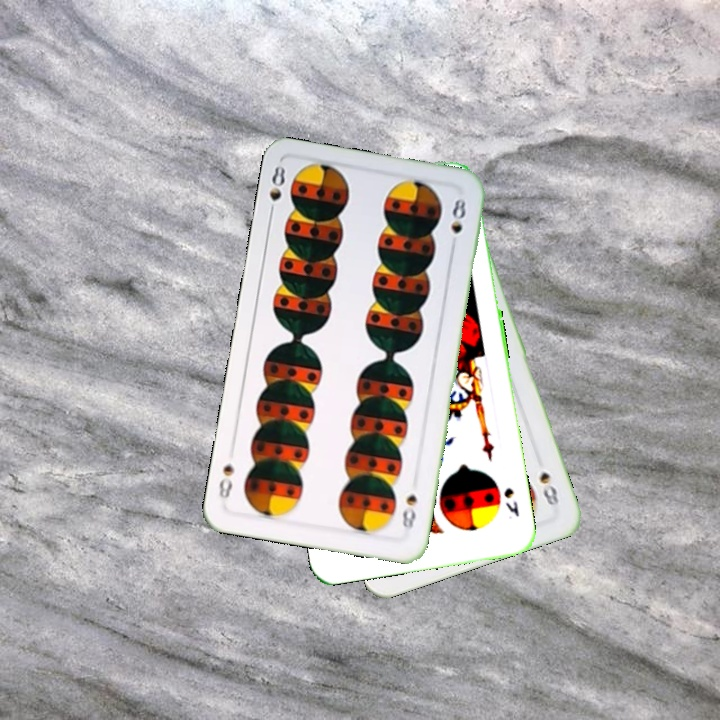S8: (265, 161, 288, 220), (535, 467, 563, 509), (398, 490, 420, 538)
SK: (500, 484, 522, 519)
